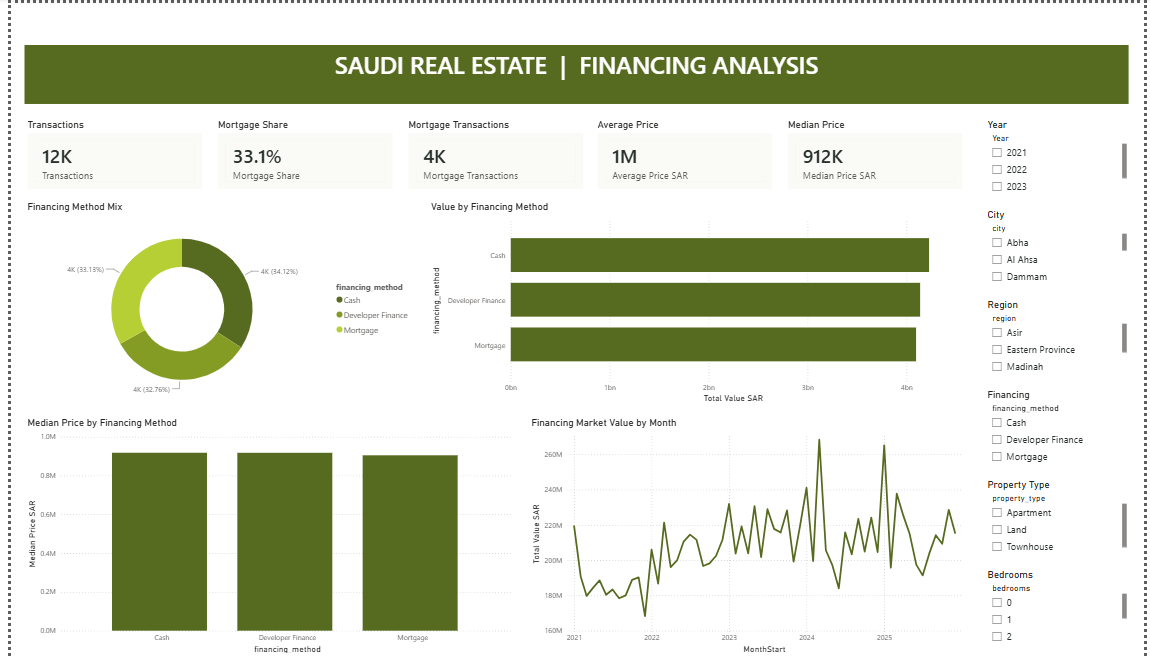

This screenshot's page, from the dashboard's own definition file:
{"tool":"powerbi","page":{"name":"04 | Financing Analysis","canvas":[1920,1080],"ordinal":3},"visuals":[{"type":"cardVisual","title":"Transactions","fields":{"Data":["Transactions.Transactions"]},"box":[24,144,306,125],"z":1000},{"type":"cardVisual","title":"Mortgage Share","fields":{"Data":["Transactions.Mortgage Share"]},"box":[346,144,306,125],"z":1000},{"type":"cardVisual","title":"Mortgage Transactions","fields":{"Data":["Transactions.Mortgage Transactions"]},"box":[668,144,306,125],"z":1000},{"type":"cardVisual","title":"Average Price","fields":{"Data":["Transactions.Average Price SAR"]},"box":[990,144,306,125],"z":1000},{"type":"cardVisual","title":"Median Price","fields":{"Data":["Transactions.Median Price SAR"]},"box":[1312,144,306,125],"z":1000},{"type":"slicer","title":"Year","fields":{"Values":["Transactions.Year"]},"box":[1650,144,246,140],"z":1000},{"type":"donutChart","title":"Financing Method Mix","fields":{"Category":["Transactions.financing_method"],"Y":["Transactions.Transactions"]},"box":[24,285,664,347],"z":1000},{"type":"clusteredBarChart","title":"Value by Financing Method","fields":{"Category":["Transactions.financing_method"],"Y":["Transactions.Total Value SAR"]},"box":[707,285,911,347],"z":1000},{"type":"slicer","title":"City","fields":{"Values":["Transactions.city"]},"box":[1650,297,246,140],"z":1000},{"type":"slicer","title":"Region","fields":{"Values":["Transactions.region"]},"box":[1650,450,246,140],"z":1000},{"type":"slicer","title":"Financing","fields":{"Values":["Transactions.financing_method"]},"box":[1650,603,246,140],"z":1000},{"type":"clusteredColumnChart","title":"Median Price by Financing Method","fields":{"Category":["Transactions.financing_method"],"Y":["Transactions.Median Price SAR"]},"box":[24,650,833,405],"z":1000},{"type":"lineChart","title":"Financing Market Value by Month","fields":{"Category":["Transactions.MonthStart"],"Y":["Transactions.Total Value SAR"]},"box":[877,650,741,405],"z":1000},{"type":"slicer","title":"Property Type","fields":{"Values":["Transactions.property_type"]},"box":[1650,756,246,140],"z":1000},{"type":"slicer","title":"Bedrooms","fields":{"Values":["Transactions.bedrooms"]},"box":[1650,909,246,140],"z":1000},{"type":"textbox","box":[24,20,1872,100],"z":2000}]}

Visuals, with their boxes in screenshot pixels (x1, y1, x2, y2), scaled from the page's 1920x1080 canvas onto the 1150x659 screenshot:
"Transactions" cardVisual: x1=14 y1=88 x2=198 y2=164
"Mortgage Share" cardVisual: x1=207 y1=88 x2=391 y2=164
"Mortgage Transactions" cardVisual: x1=400 y1=88 x2=583 y2=164
"Average Price" cardVisual: x1=593 y1=88 x2=776 y2=164
"Median Price" cardVisual: x1=786 y1=88 x2=969 y2=164
"Year" slicer: x1=988 y1=88 x2=1136 y2=173
"Financing Method Mix" donutChart: x1=14 y1=174 x2=412 y2=386
"Value by Financing Method" clusteredBarChart: x1=423 y1=174 x2=969 y2=386
"City" slicer: x1=988 y1=181 x2=1136 y2=267
"Region" slicer: x1=988 y1=275 x2=1136 y2=360
"Financing" slicer: x1=988 y1=368 x2=1136 y2=453
"Median Price by Financing Method" clusteredColumnChart: x1=14 y1=397 x2=513 y2=644
"Financing Market Value by Month" lineChart: x1=525 y1=397 x2=969 y2=644
"Property Type" slicer: x1=988 y1=461 x2=1136 y2=547
"Bedrooms" slicer: x1=988 y1=555 x2=1136 y2=640
textbox: x1=14 y1=12 x2=1136 y2=73
